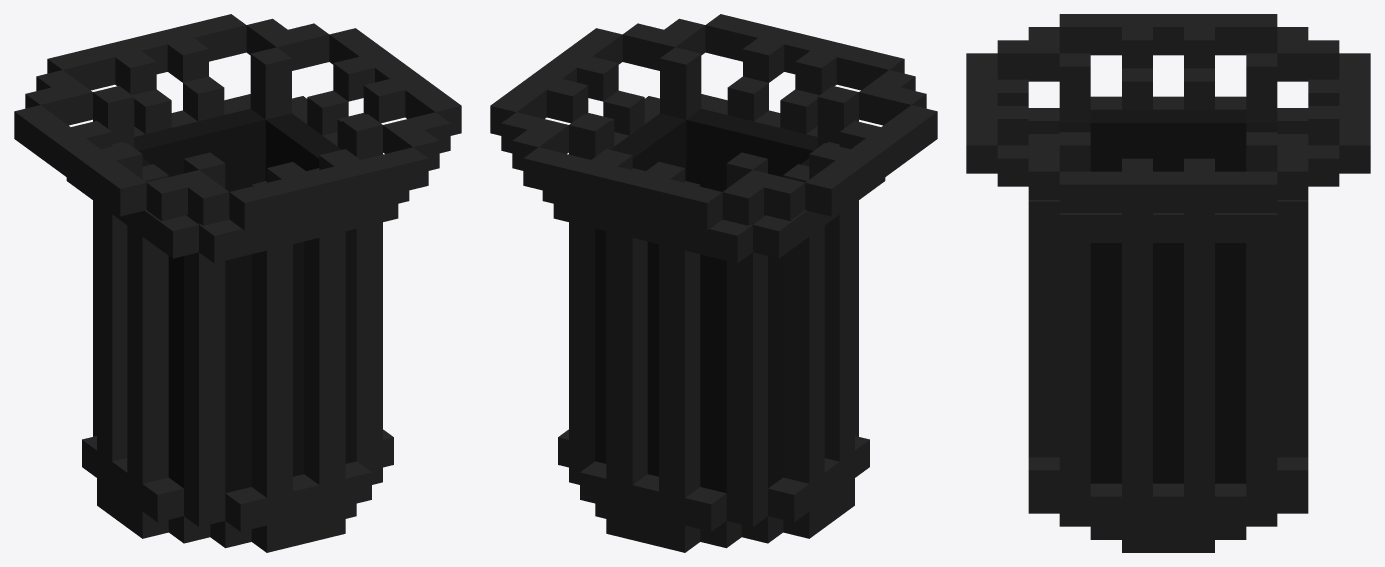
The model's file is Park_Set-7.obj.
3 views of the same model, side by side, from view 1: azimuth 30°, elevation 25°; view 2: azimuth 150°, elevation 25°; view 3: azimuth 270°, elevation 25° (orthographic). The views are drawn at different scales.
Bounding box in the file's own units: 1.3 × 1.4 × 1.3.
Materials: 1 (1 with a texture image).
